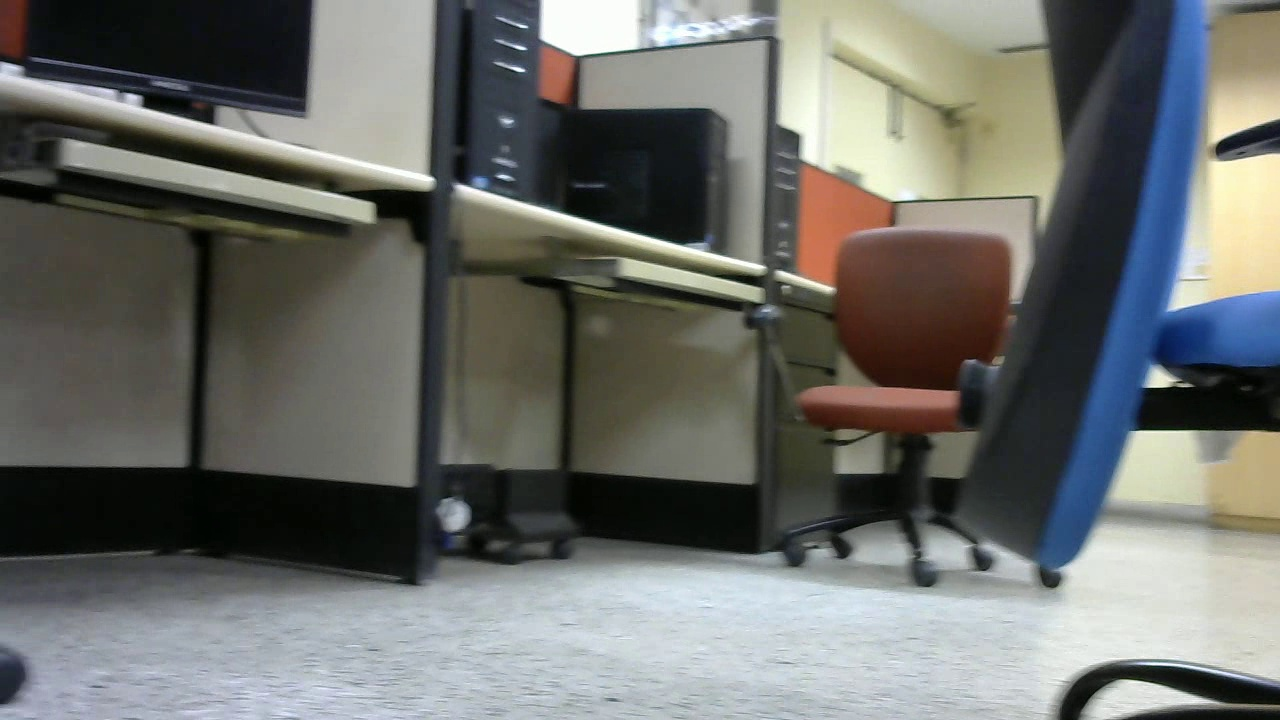chair: (736, 226, 1070, 593)
